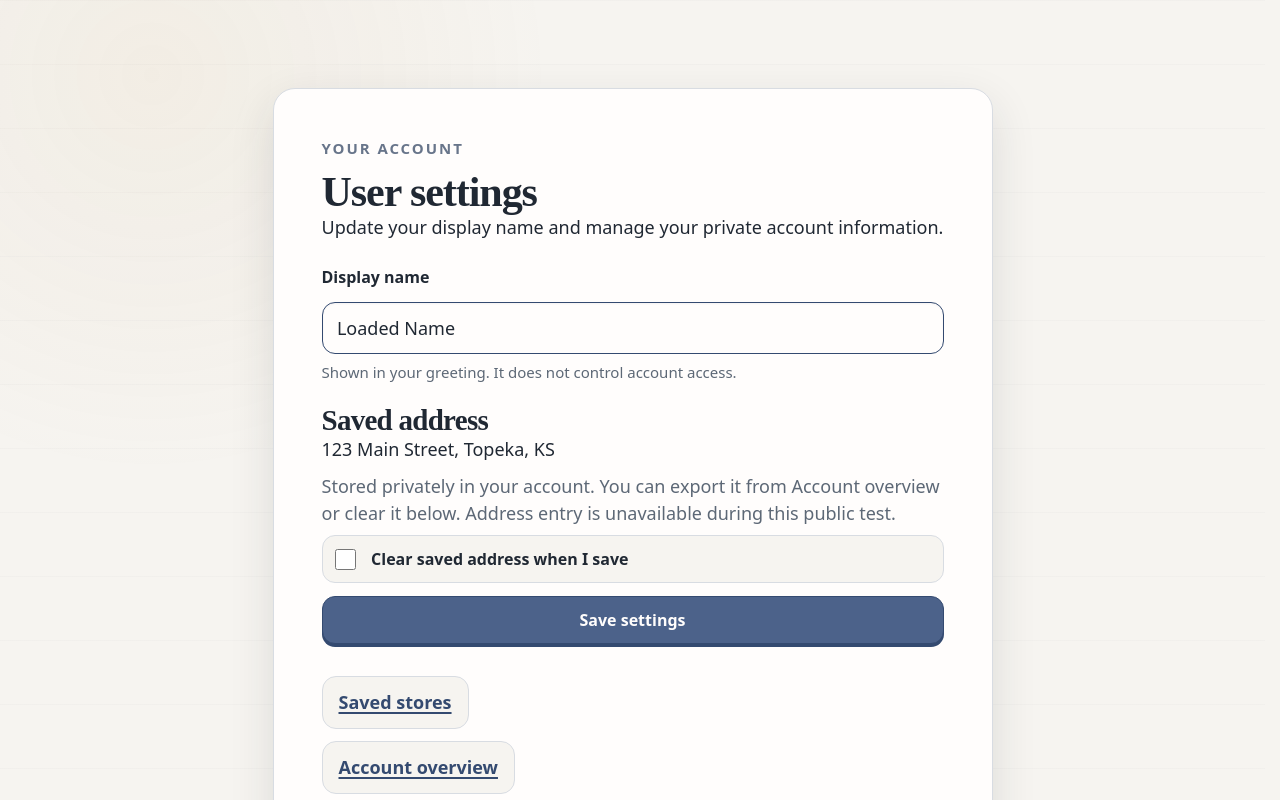
Test: UserSettingsPage › saves the edited name while preserving an existing private address
Check: the button "Save settings" is enabled, box top-left (322, 596), bottom-right (944, 644)
Replace the text in the field labelled "Display name" with "Avery" at (632,328), box top-left (322, 302), bottom-right (944, 354)
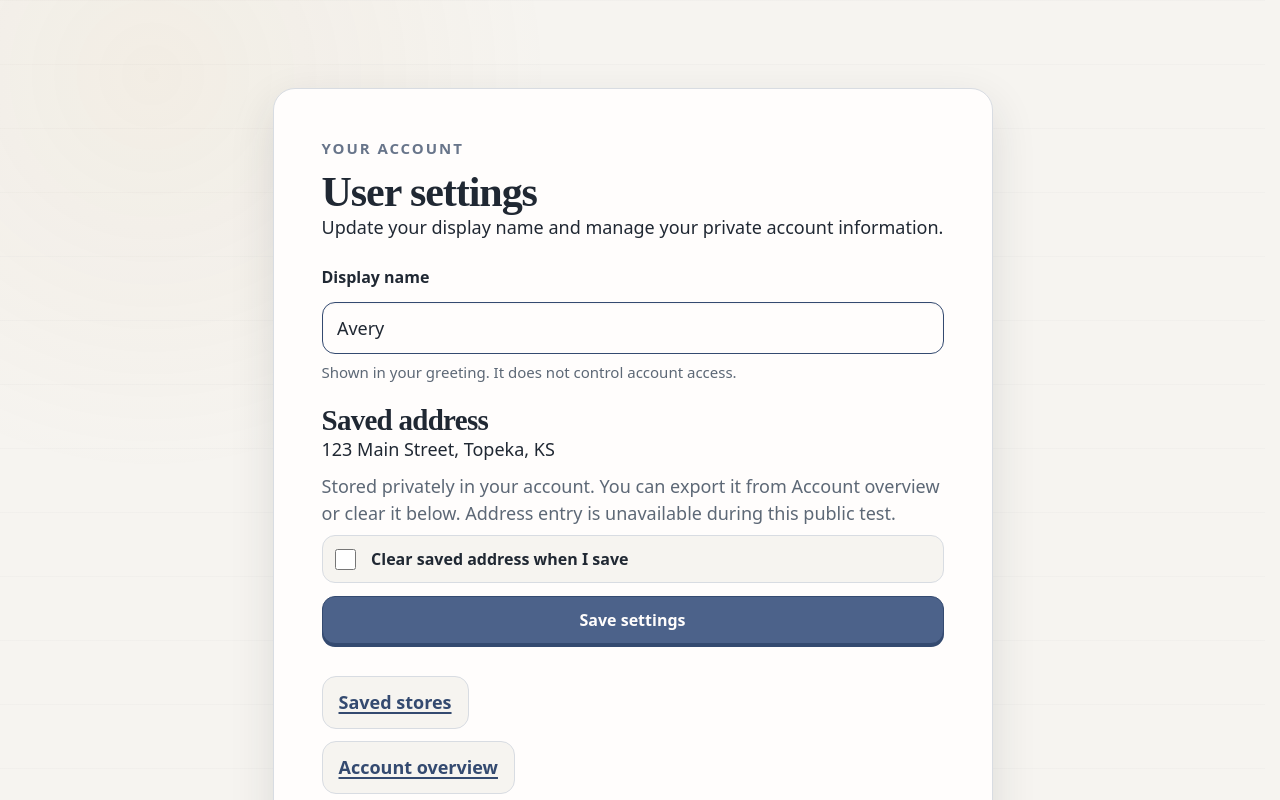
Click the button "Save settings" at (632,620), box top-left (322, 596), bottom-right (944, 644)
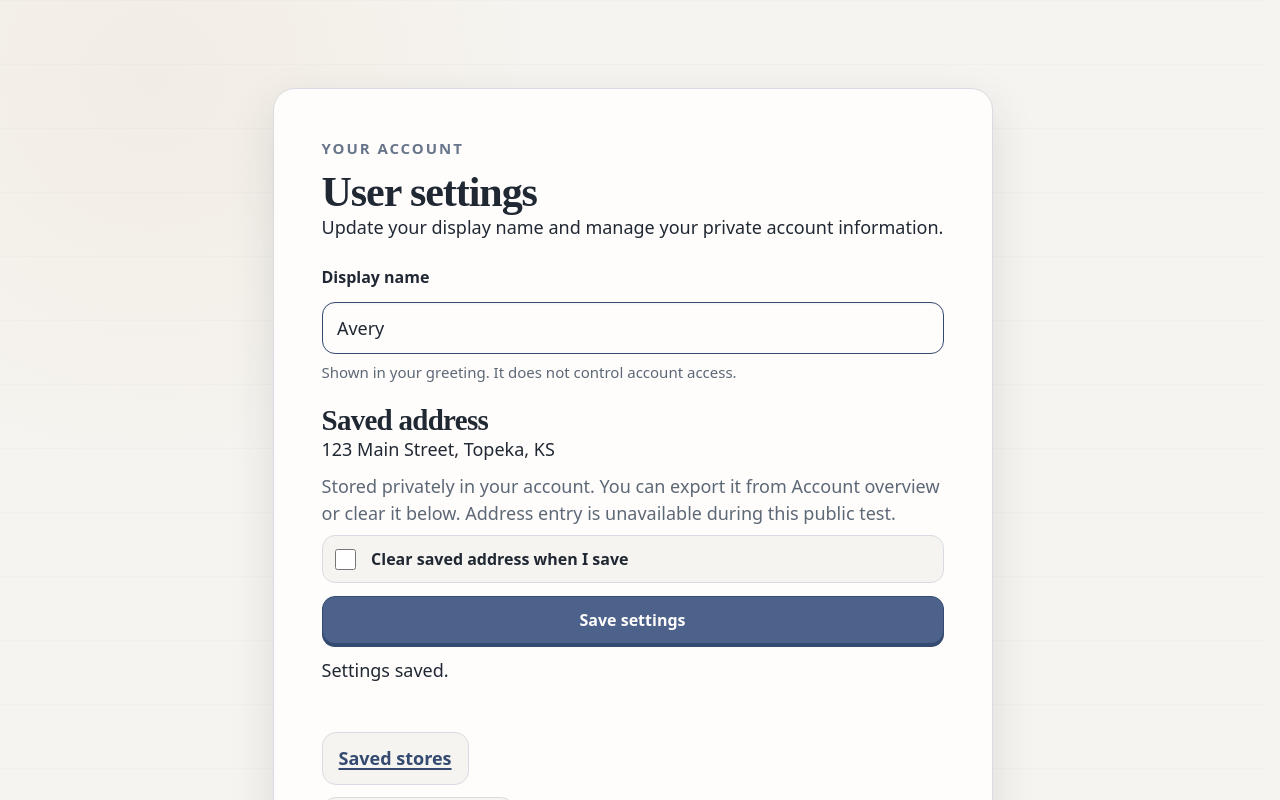
Check: the message shows "saved", box top-left (322, 658), bottom-right (449, 682)
